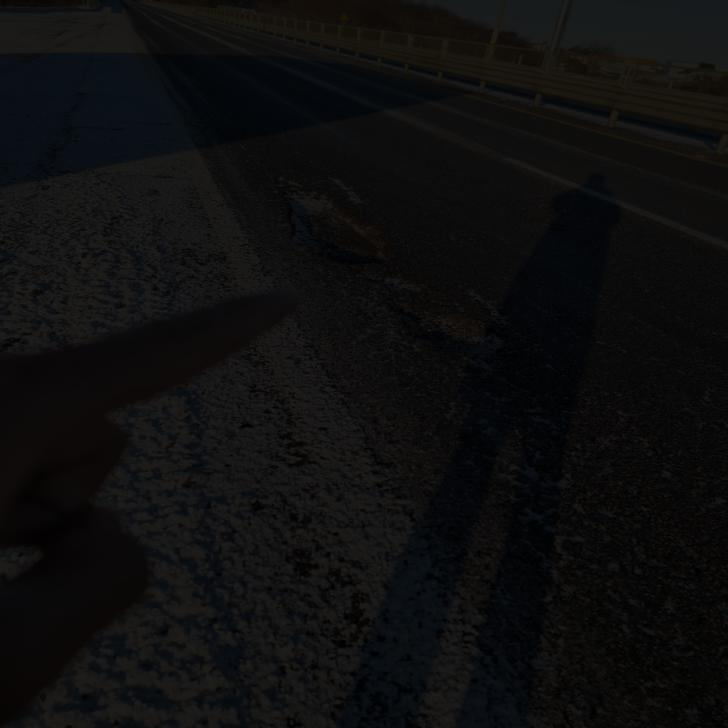pothole: (240, 164, 456, 265), (371, 282, 503, 397)
